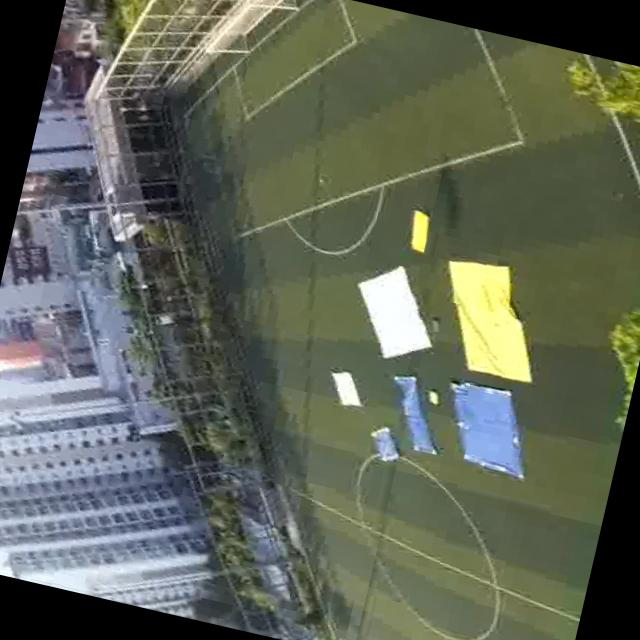danger: (436, 376, 544, 478), (381, 368, 429, 426), (362, 422, 402, 463)
safety: (339, 252, 448, 371), (321, 361, 376, 414)
warning: (436, 251, 554, 387), (400, 203, 442, 257)
